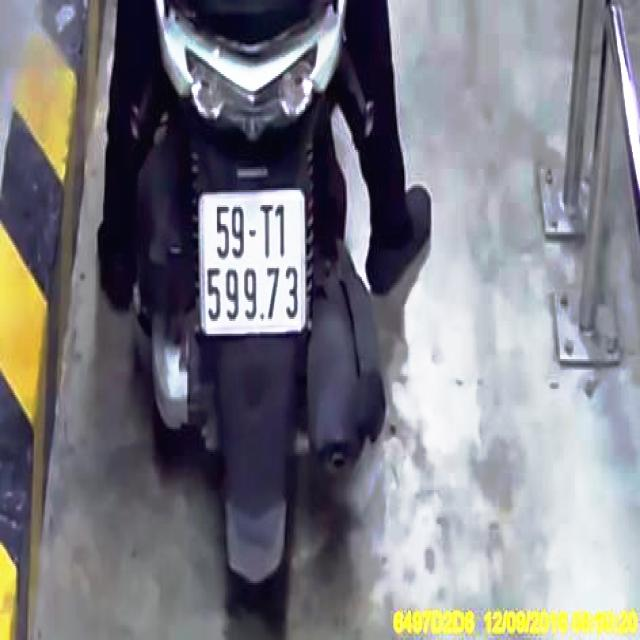license_plate: (199, 191, 306, 333)
